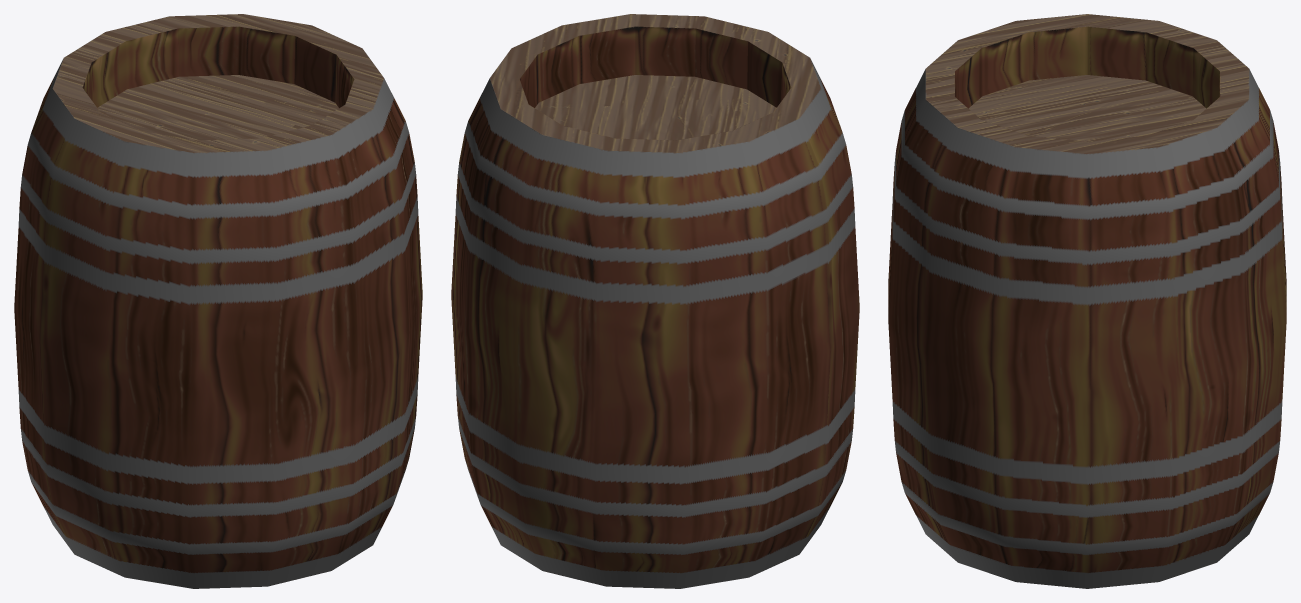
Rendered from Barrel_4.fbx.
3 views of the same model, side by side, from view 1: azimuth 30°, elevation 25°; view 2: azimuth 150°, elevation 25°; view 3: azimuth 270°, elevation 25° (orthographic).
Parts seen in each view (by area): view 1: BarileChiuso; view 2: BarileChiuso; view 3: BarileChiuso.
Part boxes in pixels (box(x1,y1,x2,y2)): BarileChiuso: box(14, 14, 422, 588); BarileChiuso: box(451, 14, 859, 588); BarileChiuso: box(888, 14, 1286, 588).
Bounding box in the file's own units: 0.604 × 0.7092 × 0.5888.
